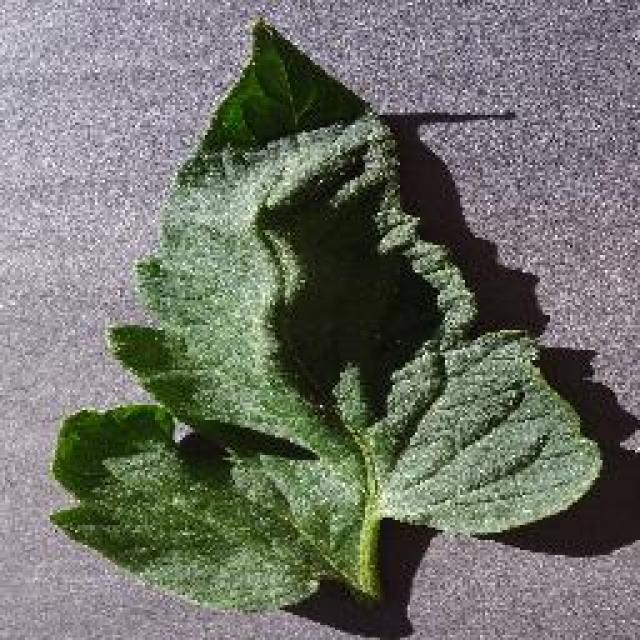healthy: (47, 18, 611, 616)
